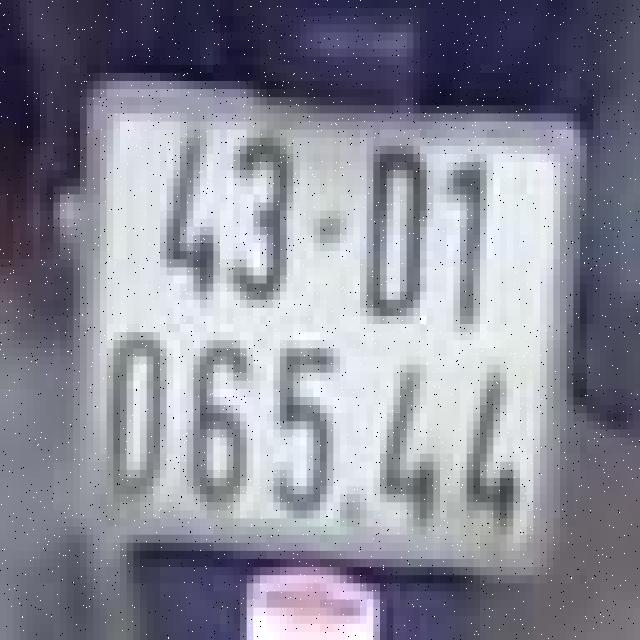0: (90, 316, 183, 510)
1: (450, 142, 497, 336)
3: (230, 117, 303, 312)
4: (456, 344, 536, 539), (153, 122, 220, 300), (380, 340, 440, 527)
5: (266, 332, 346, 527)
6: (180, 316, 260, 527)
D: (364, 118, 444, 336)
